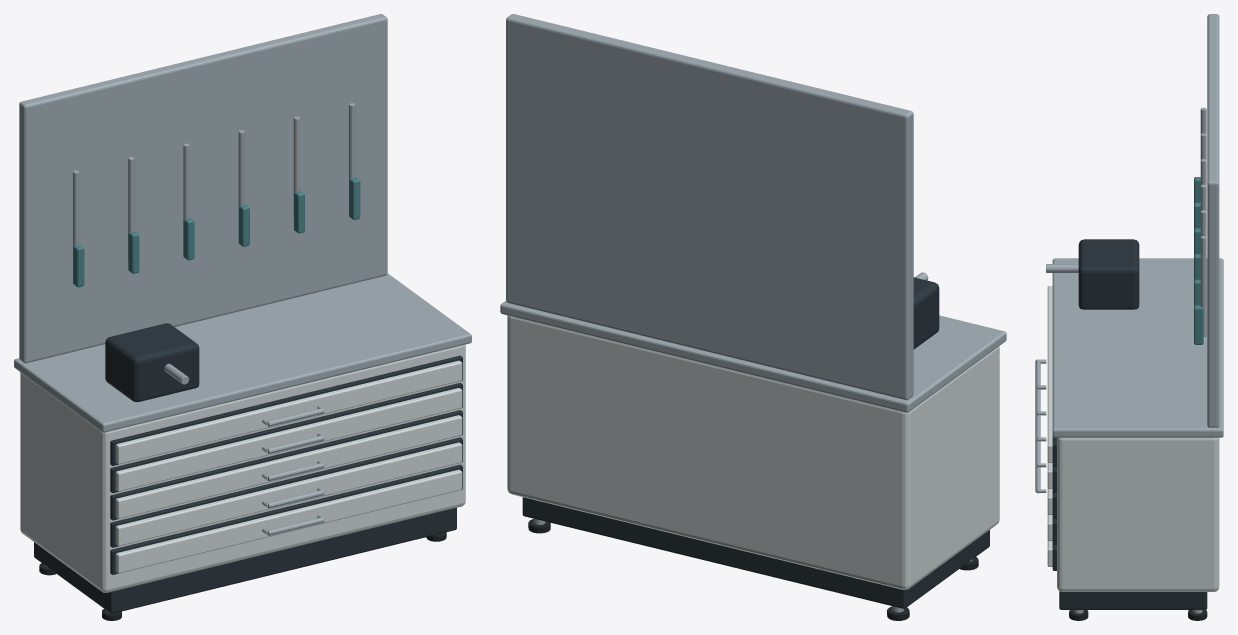
The model's file is RD_MaintenanceBench.fbx.
The picture shows the model from 3 angles, left to right: view 1: azimuth 30°, elevation 25°; view 2: azimuth 150°, elevation 25°; view 3: azimuth 270°, elevation 25°; orthographic projection. The views are drawn at different scales.
Visible parts, largest first — view 1: RD_MaintenanceBench; view 2: RD_MaintenanceBench; view 3: RD_MaintenanceBench.
Boxes of the visible parts, box(x1,y1,x2,y2) form: RD_MaintenanceBench: box(14, 14, 471, 620); RD_MaintenanceBench: box(500, 14, 1006, 620); RD_MaintenanceBench: box(1035, 14, 1223, 620).
Size of the model in its own units: 168 by 202 by 77.65.
